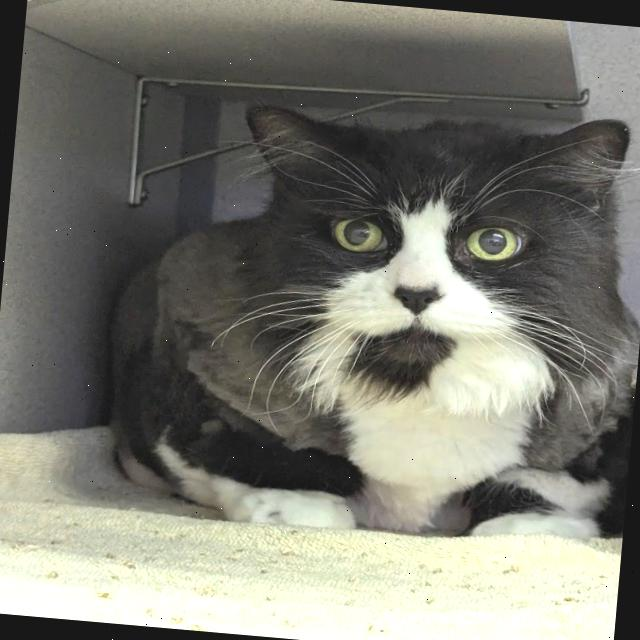domestic_long_hair_cat: (200, 71, 640, 451)
